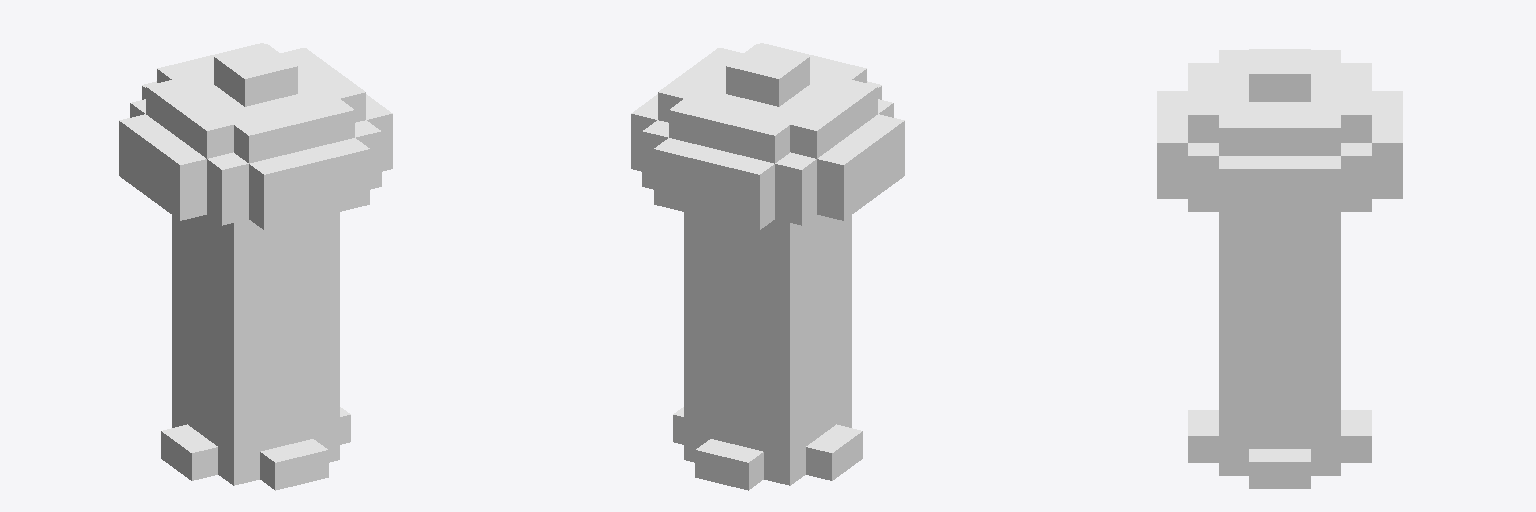
File: VoxelMushroom.obj
3 renders of one model, left to right at view 1: azimuth 30°, elevation 25°; view 2: azimuth 150°, elevation 25°; view 3: azimuth 270°, elevation 25°, orthographic.
Parts seen in each view (by area): view 1: VoxelMushroom; view 2: VoxelMushroom; view 3: VoxelMushroom.
Part boxes in pixels (x1,y1,x2,y2): VoxelMushroom: (119, 43, 392, 490); VoxelMushroom: (631, 43, 904, 490); VoxelMushroom: (1157, 49, 1402, 488).
Size of the model in its own units: 8 by 14 by 8.